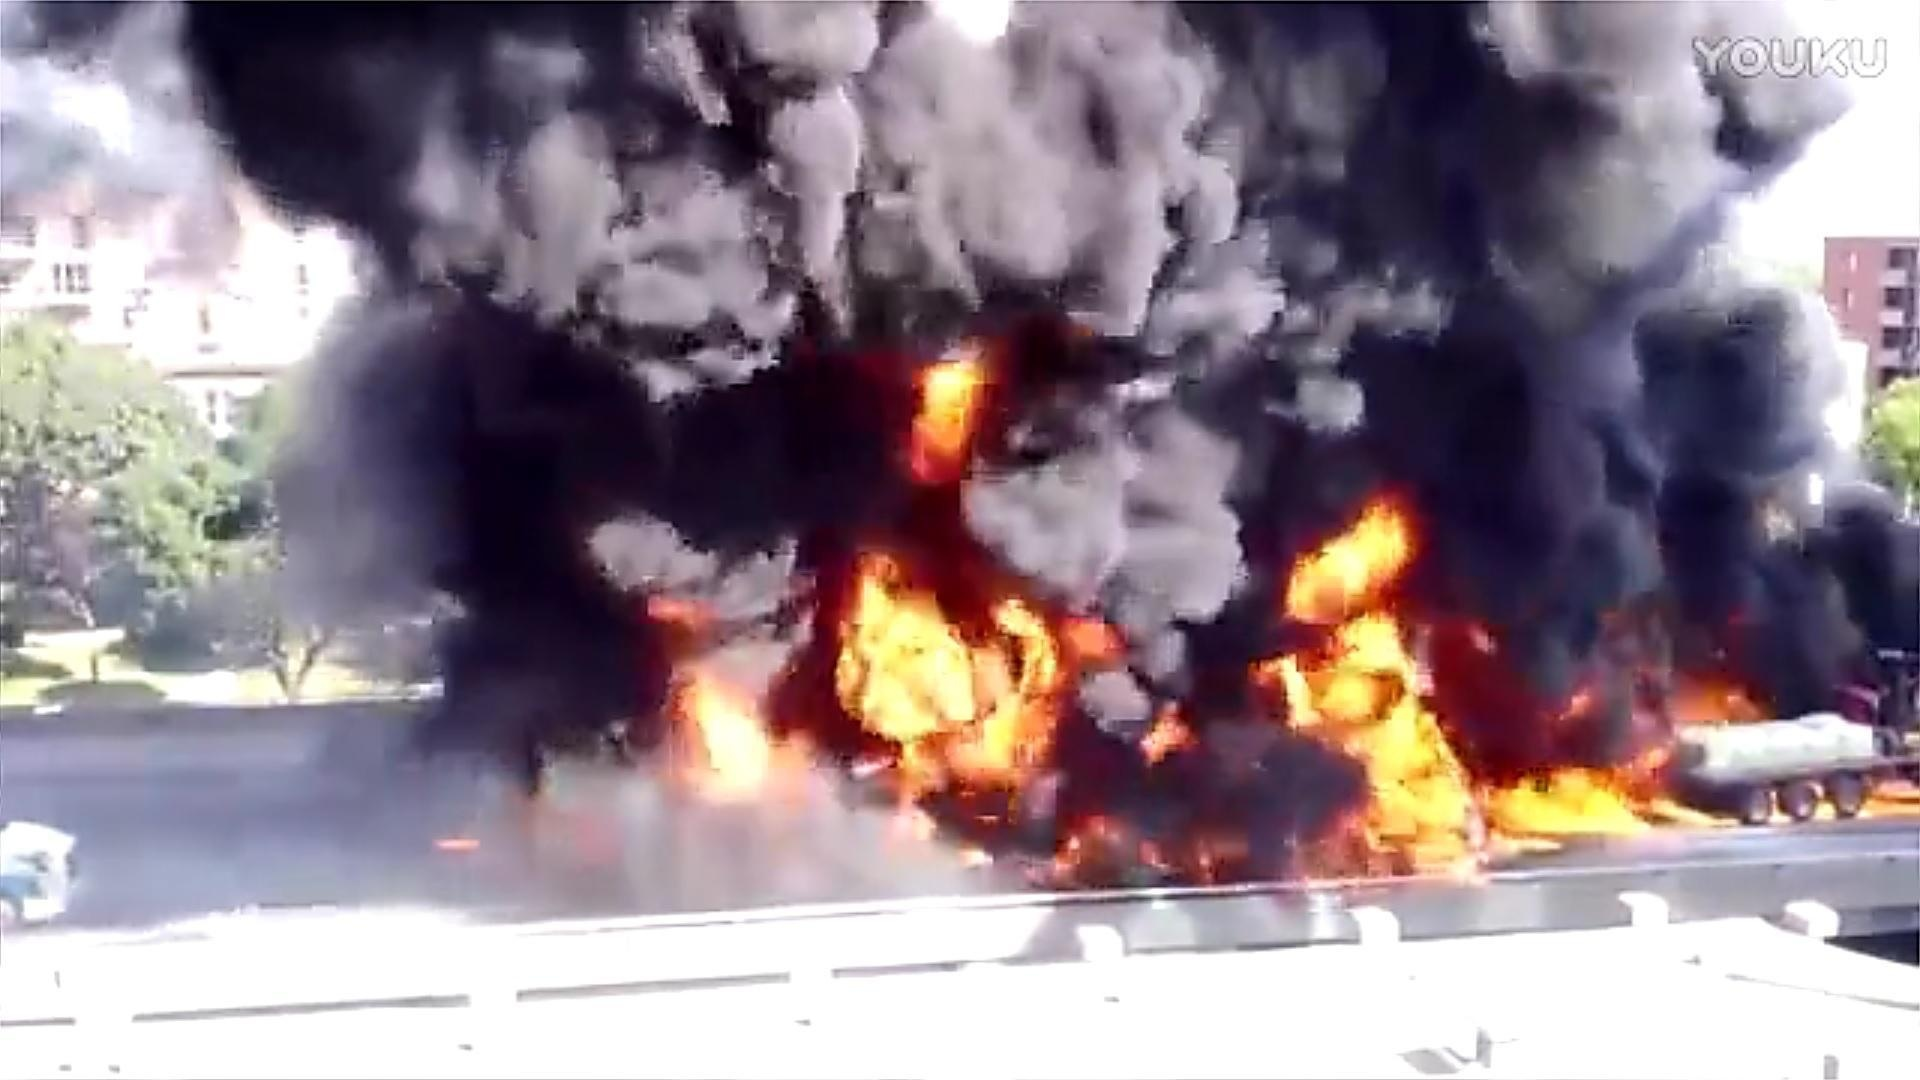fire: (1261, 508, 1913, 857), (663, 555, 1084, 793), (909, 352, 982, 476)
